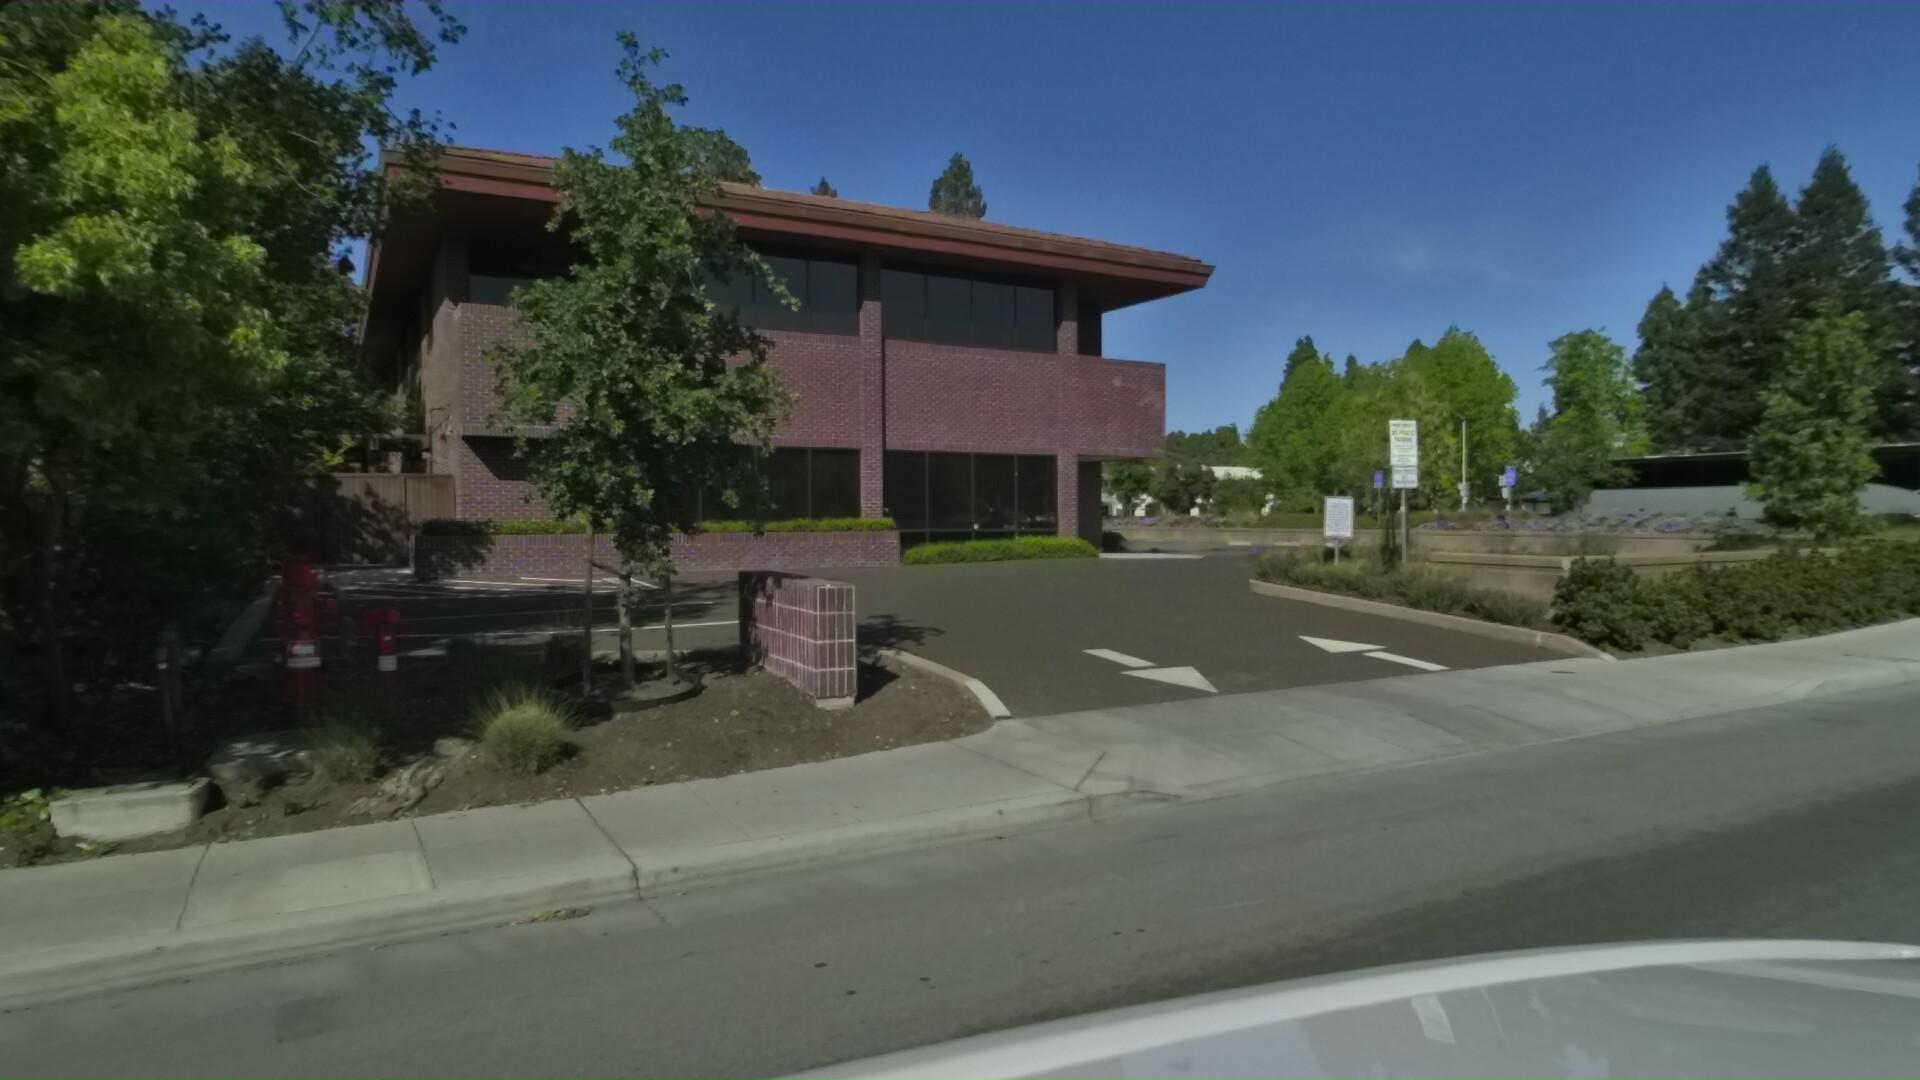bus: (1563, 422, 1920, 533)
